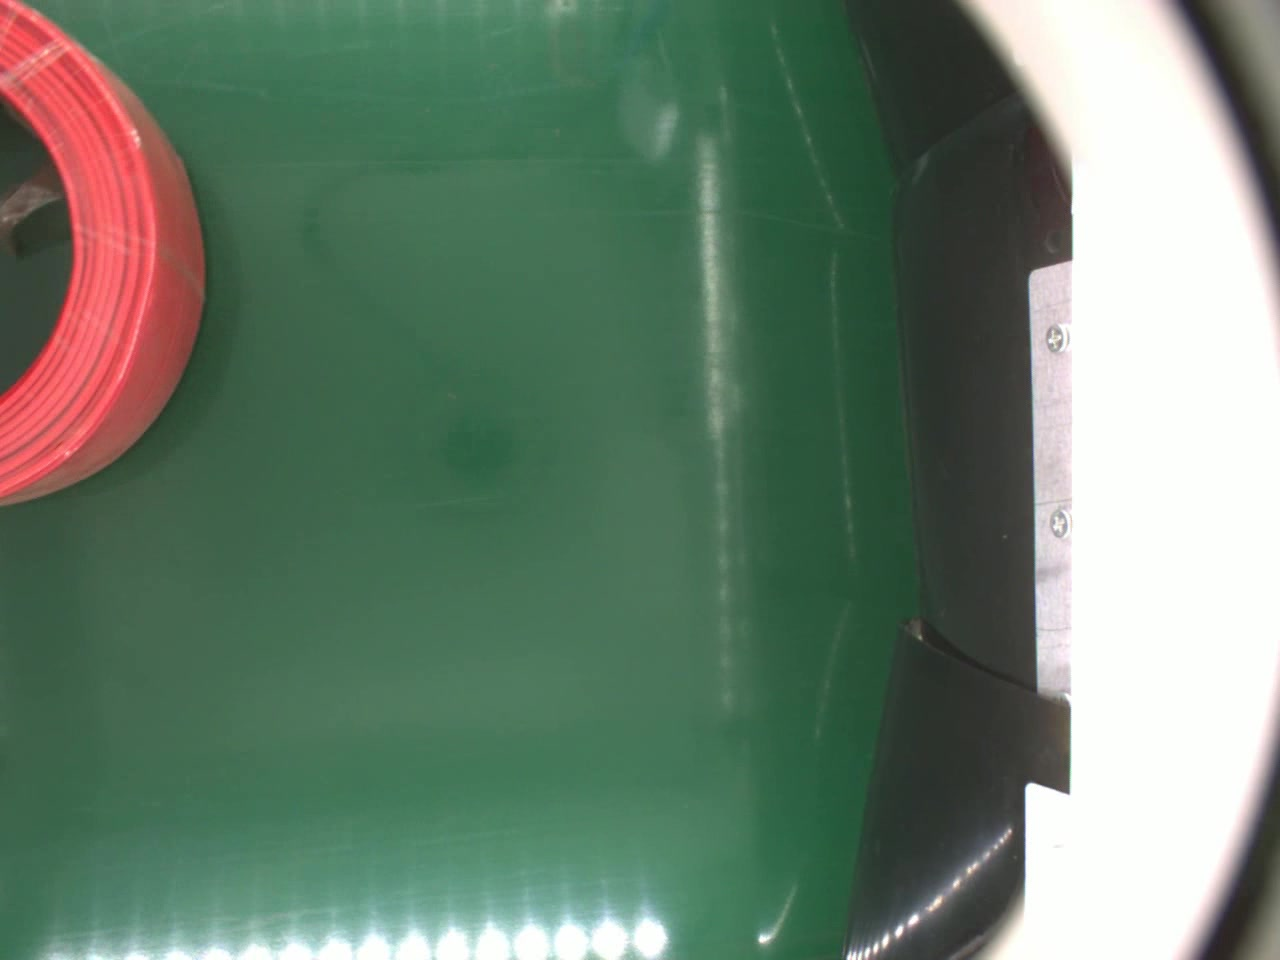red: (0, 0, 204, 505)
